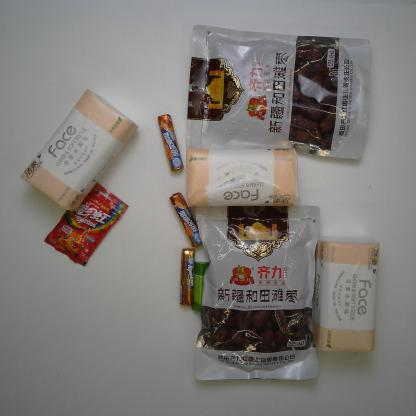Candy: (45, 186, 129, 266), (169, 186, 202, 247), (157, 109, 185, 175), (178, 245, 196, 310)
Dried Food: (181, 18, 374, 172), (195, 197, 322, 387)
Stationery: (192, 260, 214, 310)
Tissue: (22, 85, 135, 211), (316, 230, 378, 353), (183, 144, 299, 209)
